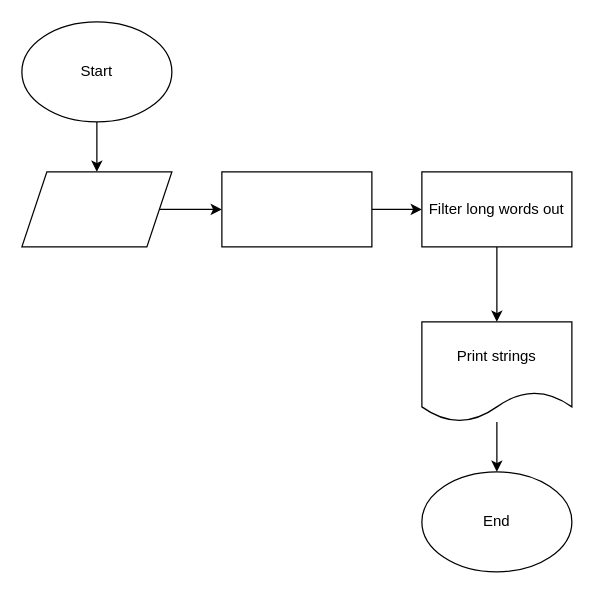
Image size: 594x594. Some labels were removed from this diagram. Each missing label, with the centre of its shape:
"Filter nulls out" goes at point (296, 209).
"strings" goes at point (96, 209).
